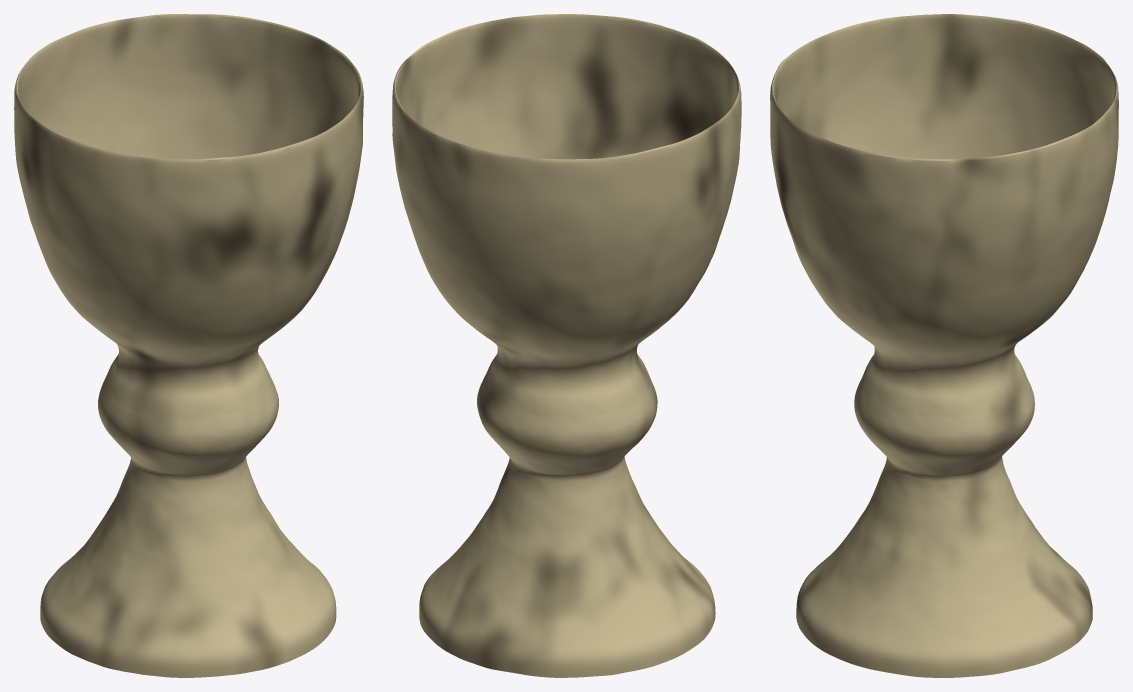
Rendered from goblet.glb.
The picture shows the model from 3 angles, left to right: view 1: azimuth 30°, elevation 25°; view 2: azimuth 150°, elevation 25°; view 3: azimuth 270°, elevation 25°; orthographic projection.
Parts seen in each view (by area): view 1: Circle; view 2: Circle; view 3: Circle.
Boxes of the visible parts, left/top/right/bottom form: Circle: left=14, top=14, right=363, bottom=677; Circle: left=392, top=14, right=741, bottom=677; Circle: left=770, top=14, right=1118, bottom=677.
Size of the model in its own units: 2.34 by 3.92 by 2.34.
Materials: 1 (1 with a texture image).
